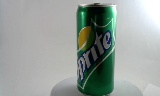sprite: (69, 2, 109, 95)
